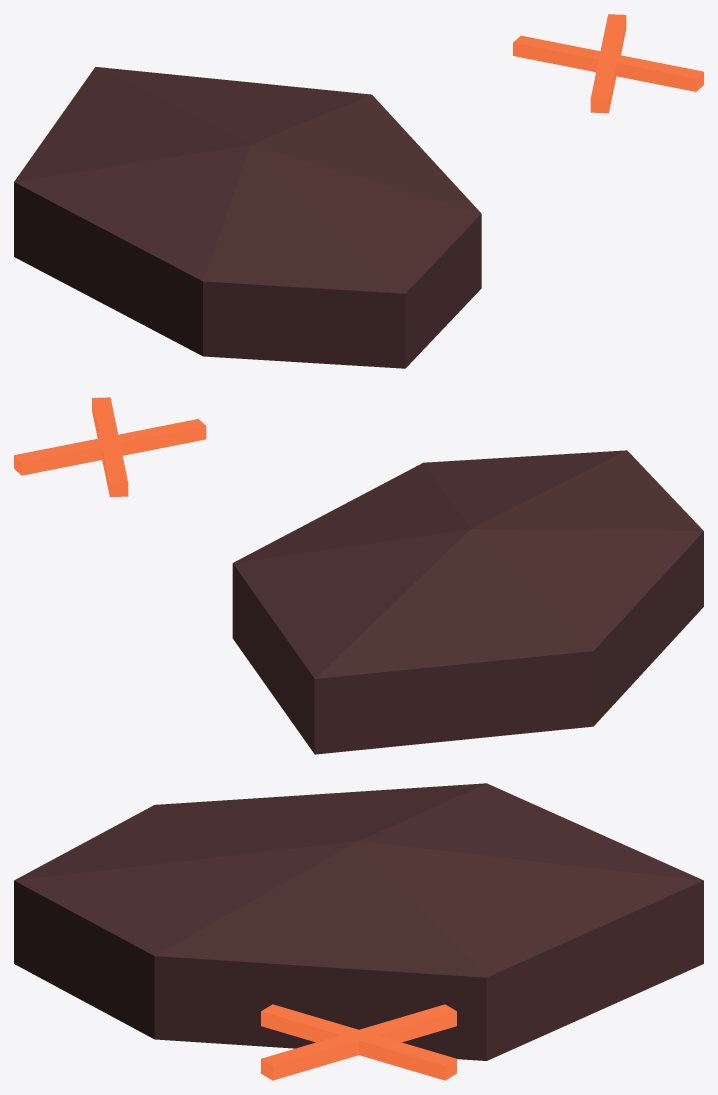
The model's file is SM_Rune_Damage.glb.
The picture shows the model from 3 angles, top to bottom: view 1: azimuth 30°, elevation 25°; view 2: azimuth 150°, elevation 25°; view 3: azimuth 270°, elevation 25°; orthographic projection. The views are drawn at different scales.
Visible parts, largest first — view 1: SM_Rune_Damage, Glyph_Damage_Slash1, Glyph_Damage_Slash2; view 2: SM_Rune_Damage, Glyph_Damage_Slash2, Glyph_Damage_Slash1; view 3: SM_Rune_Damage, Glyph_Damage_Slash1, Glyph_Damage_Slash2.
Part boxes in pixels (x1,y1,x2,y2): SM_Rune_Damage: (14, 67, 481, 368); Glyph_Damage_Slash1: (513, 35, 703, 91); Glyph_Damage_Slash2: (590, 14, 626, 113); SM_Rune_Damage: (232, 450, 703, 754); Glyph_Damage_Slash2: (14, 419, 206, 475); Glyph_Damage_Slash1: (92, 397, 128, 497); SM_Rune_Damage: (14, 783, 703, 1060); Glyph_Damage_Slash1: (261, 1004, 456, 1080); Glyph_Damage_Slash2: (261, 1004, 456, 1080).
Size of the model in its own units: 2.99 by 0.702 by 2.7.
